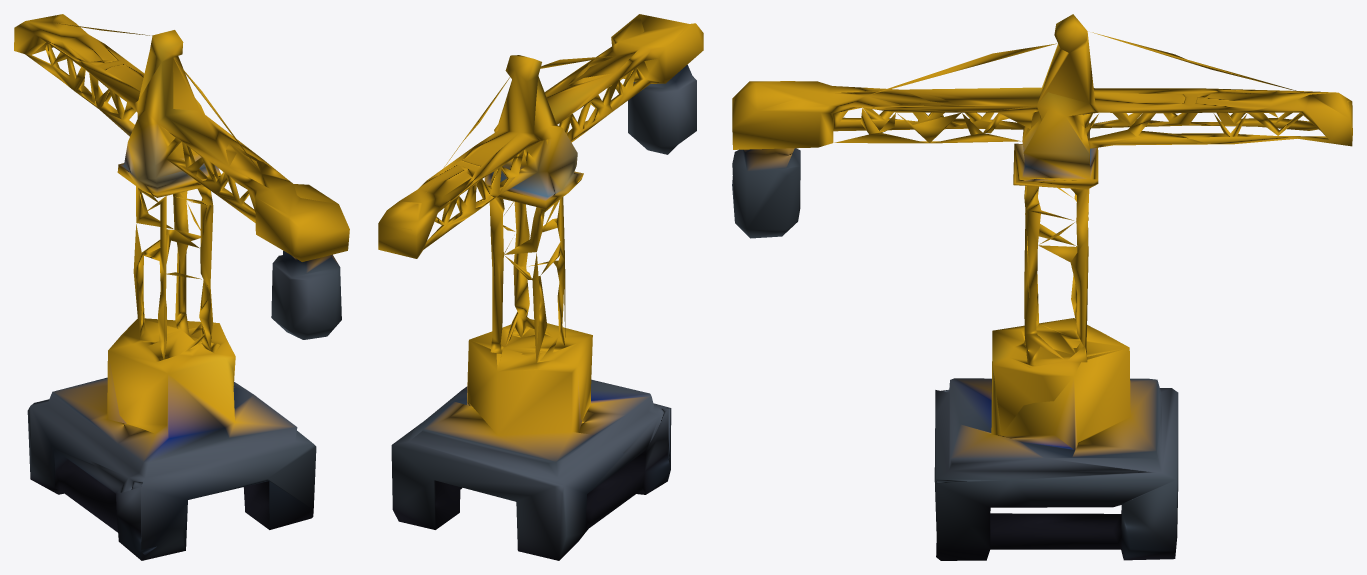
Rendered from gen3d-crane-operator-lod1.glb.
3 views of the same model, side by side, from view 1: azimuth 30°, elevation 25°; view 2: azimuth 150°, elevation 25°; view 3: azimuth 270°, elevation 25° (orthographic). The views are drawn at different scales.
Visible parts, largest first — view 1: part_0; view 2: part_0; view 3: part_0.
Boxes of the visible parts, x1,y1,x2,y2 form: part_0: (14,14,349,560); part_0: (378,14,703,560); part_0: (732,14,1352,560).
Bounding box in the file's own units: 0.399 × 0.9992 × 1.13.
